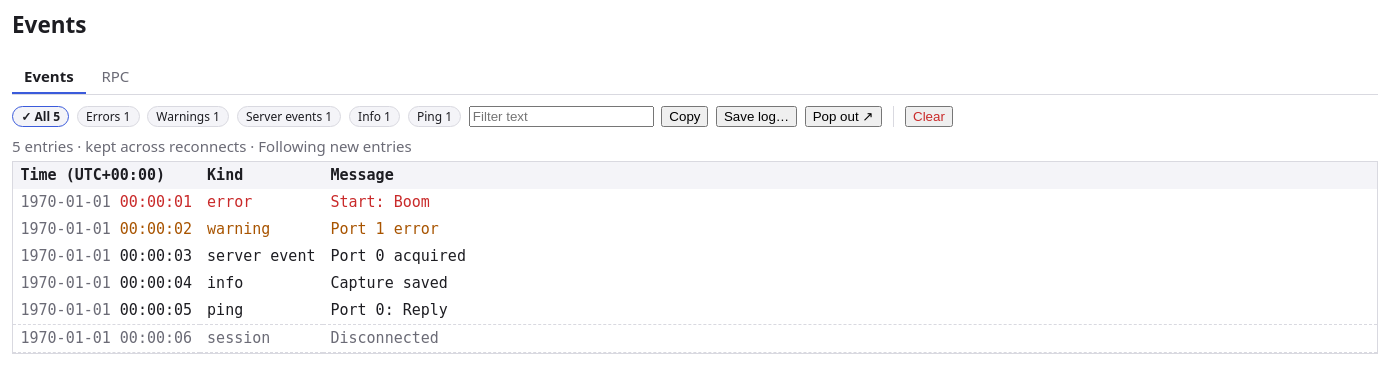
Scenario: EventsPage › the text filter is case-insensitive
Type "bOOM" into the field named "Filter events". click: (561, 117)
box: [469,106,654,127]
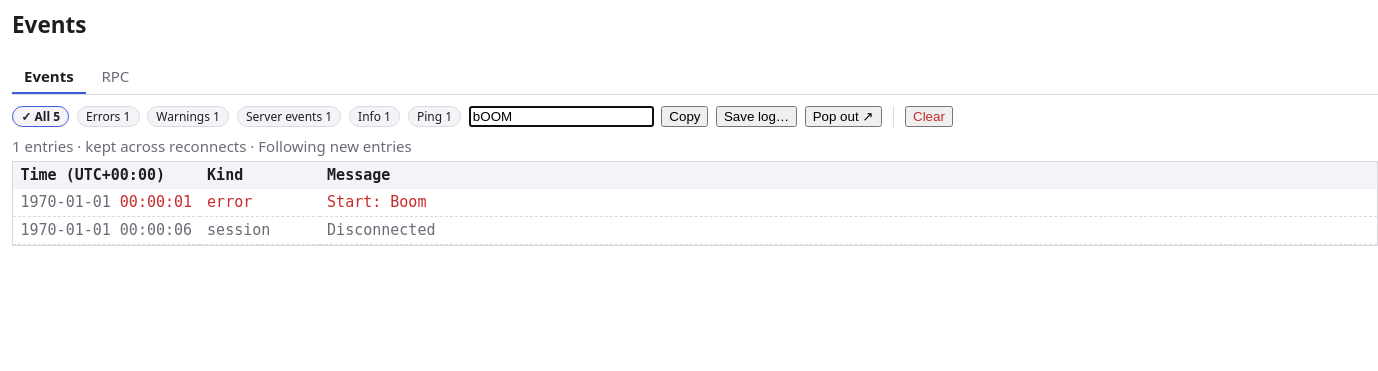
Expected: the text "Start: Boom" is shown, [320,189,1377,217]
Expected: the text "Capture saved" is gone
